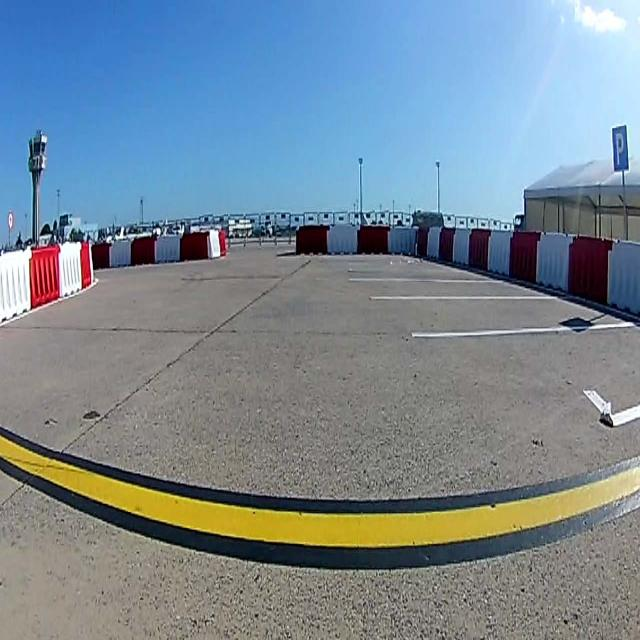park: (611, 124, 629, 172)
